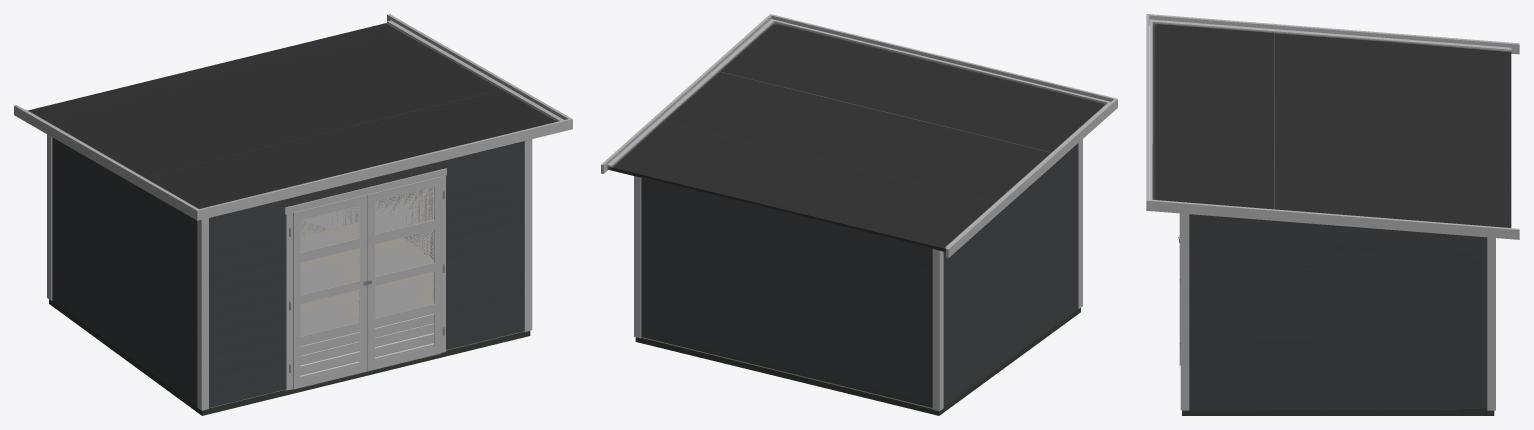
The model's file is cabin2.gltf.
3 views of the same model, side by side, from view 1: azimuth 30°, elevation 25°; view 2: azimuth 150°, elevation 25°; view 3: azimuth 270°, elevation 25° (orthographic). The views are drawn at different scales.
Visible parts, largest first — view 1: OuterCabin_Low, WoodPiece_Low, Null; view 2: OuterCabin_Low, WoodPiece_Low; view 3: OuterCabin_Low, WoodPiece_Low.
Part boxes in pixels (left/top/right/bottom): OuterCabin_Low: left=14, top=14, right=572, bottom=415; WoodPiece_Low: left=52, top=137, right=523, bottom=407; Null: left=300, top=187, right=434, bottom=336; OuterCabin_Low: left=601, top=14, right=1117, bottom=415; WoodPiece_Low: left=641, top=143, right=1077, bottom=407; OuterCabin_Low: left=1146, top=14, right=1519, bottom=415; WoodPiece_Low: left=1189, top=214, right=1487, bottom=410.
Size of the model in its own units: 3.47 by 1.97 by 2.93.
3 materials, 2 textured.
